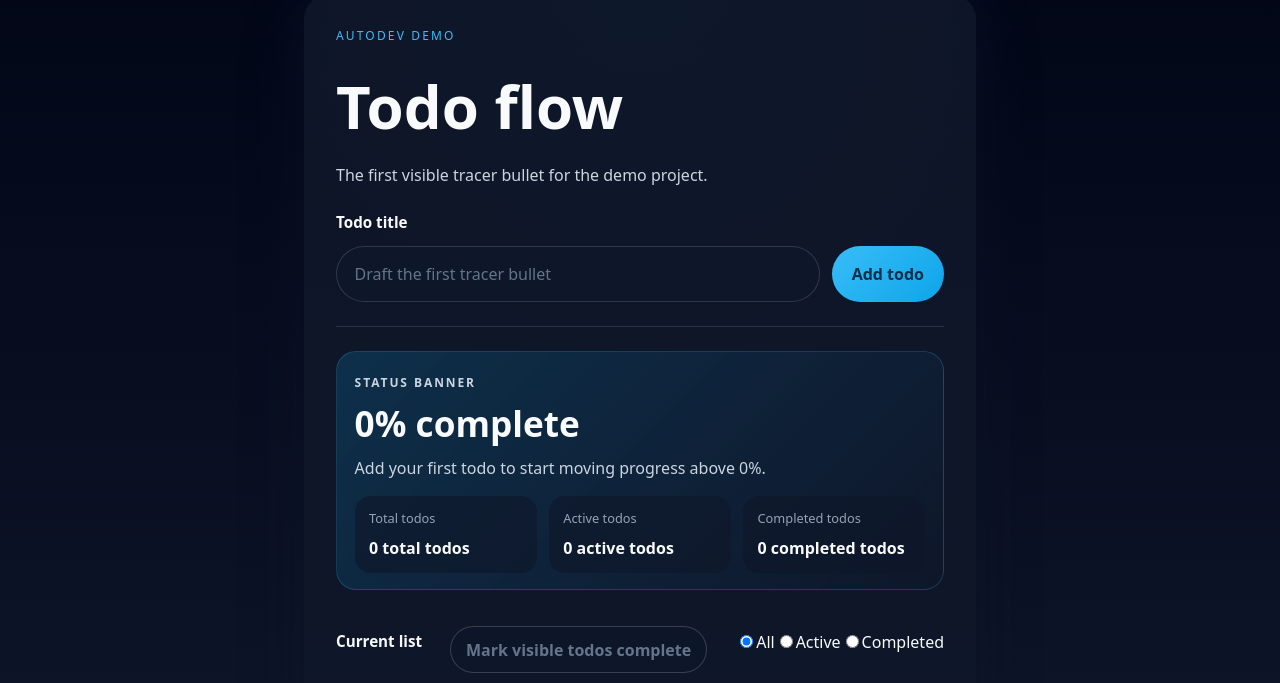
Test: Todo app shell › removes a todo from the list and restores empty state
In the field labelled "Todo title": (578, 274) 336,246 -> 820,302, type "Temporary todo"
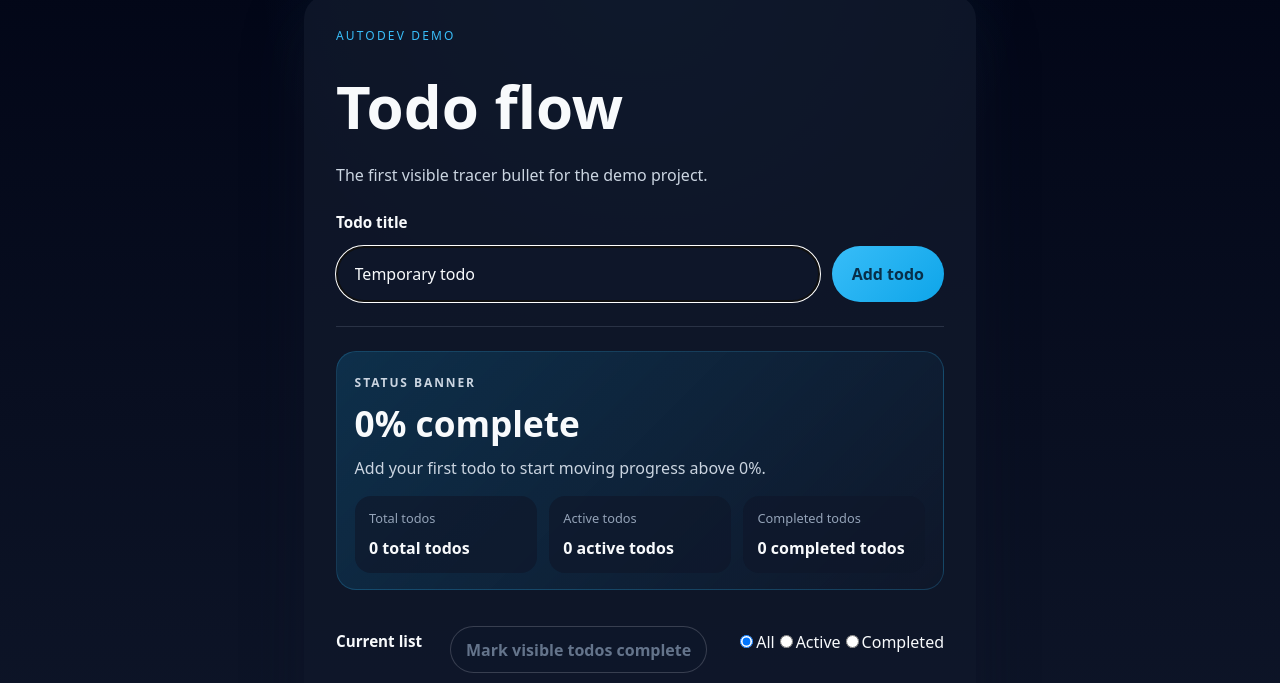
Click the button "Add todo": (888, 274) 832,246 -> 944,302
(page scrolled)
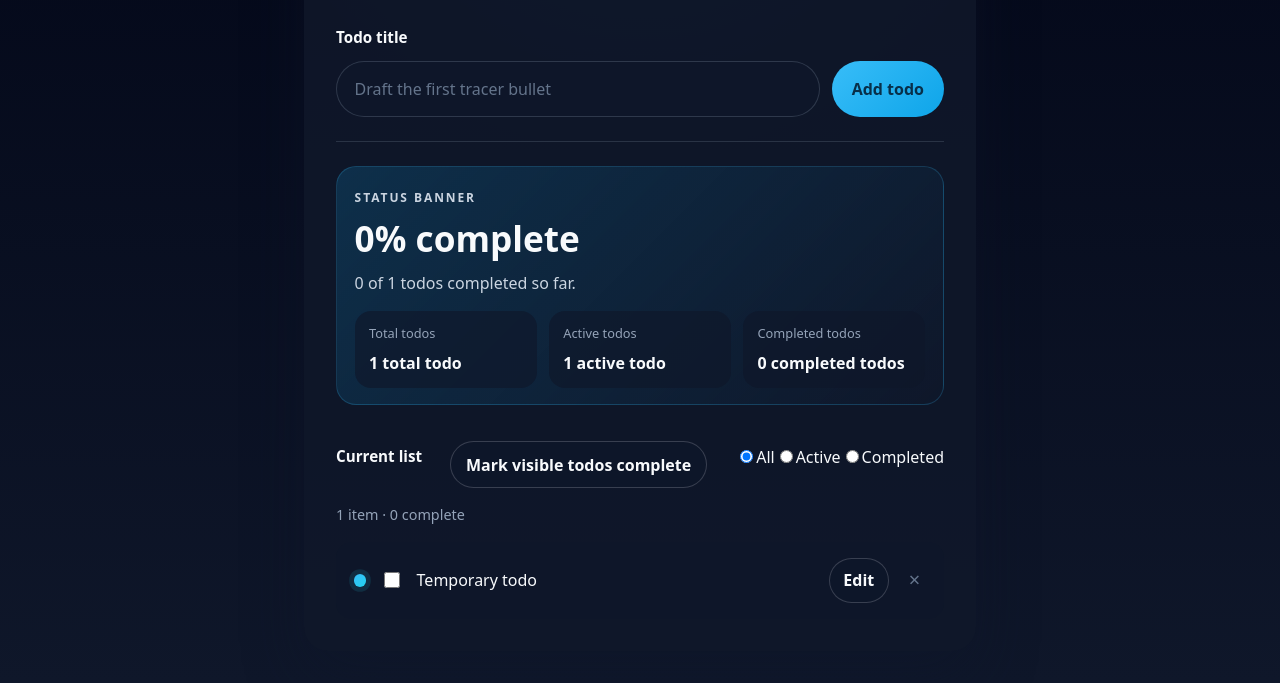
Now the text "Temporary todo" is shown, box 417,569 -> 537,591
Now the text "1 item · 0 complete" is shown, box 336,504 -> 465,526
Click the button named "remove todo": (914, 580) 902,568 -> 926,592
(page scrolled)
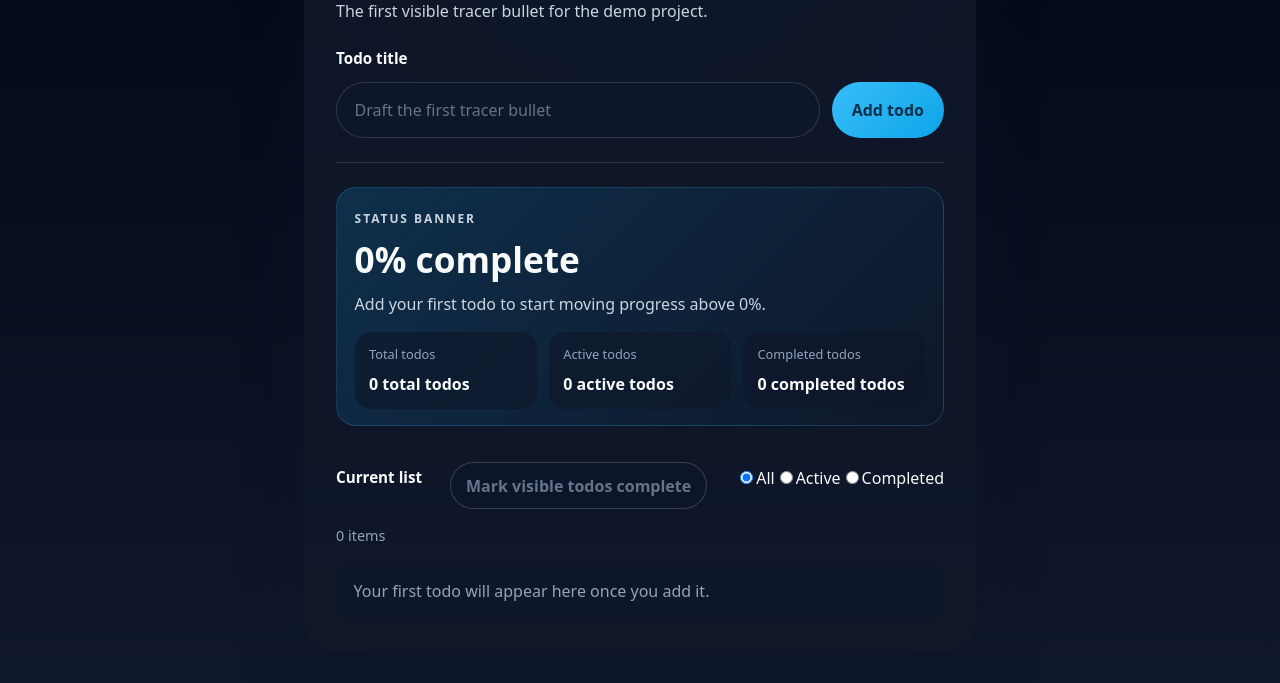
Now the text "Temporary todo" is gone
Now the list item "Your first todo will appear here once you add it." is shown, box 336,563 -> 944,619
